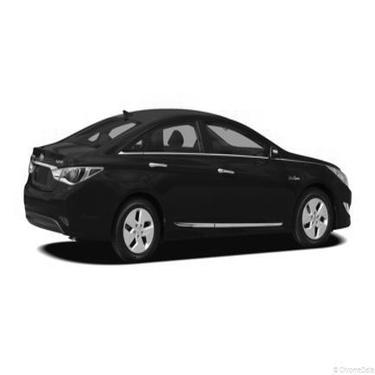car: (15, 105, 354, 265)
